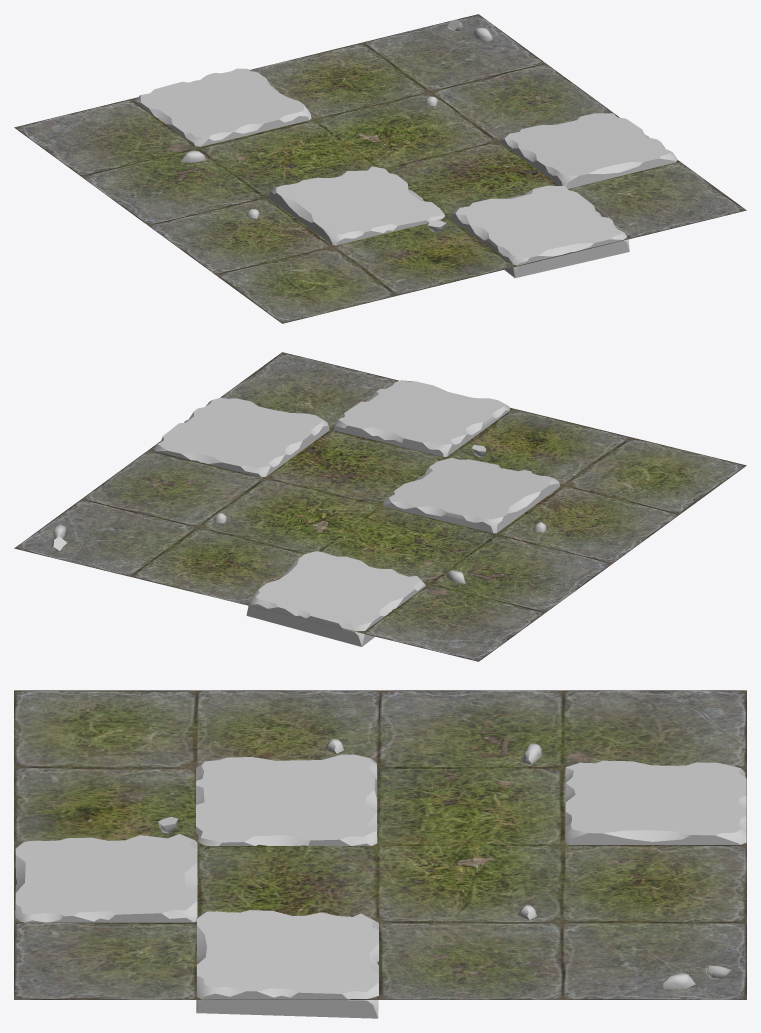
The model's file is Floor_Lvl3_23.fbx.
3 renders of one model, top to bottom at view 1: azimuth 30°, elevation 25°; view 2: azimuth 150°, elevation 25°; view 3: azimuth 270°, elevation 25°, orthographic. The views are drawn at different scales.
Visible parts, largest first — view 1: StoneFloor.002; view 2: StoneFloor.002; view 3: StoneFloor.002.
Boxes of the visible parts, box(x1,y1,x2,y2) form: StoneFloor.002: box(14, 14, 746, 323); StoneFloor.002: box(14, 352, 746, 661); StoneFloor.002: box(14, 690, 746, 1018).
Size of the model in its own units: 382 by 20.6 by 382.
